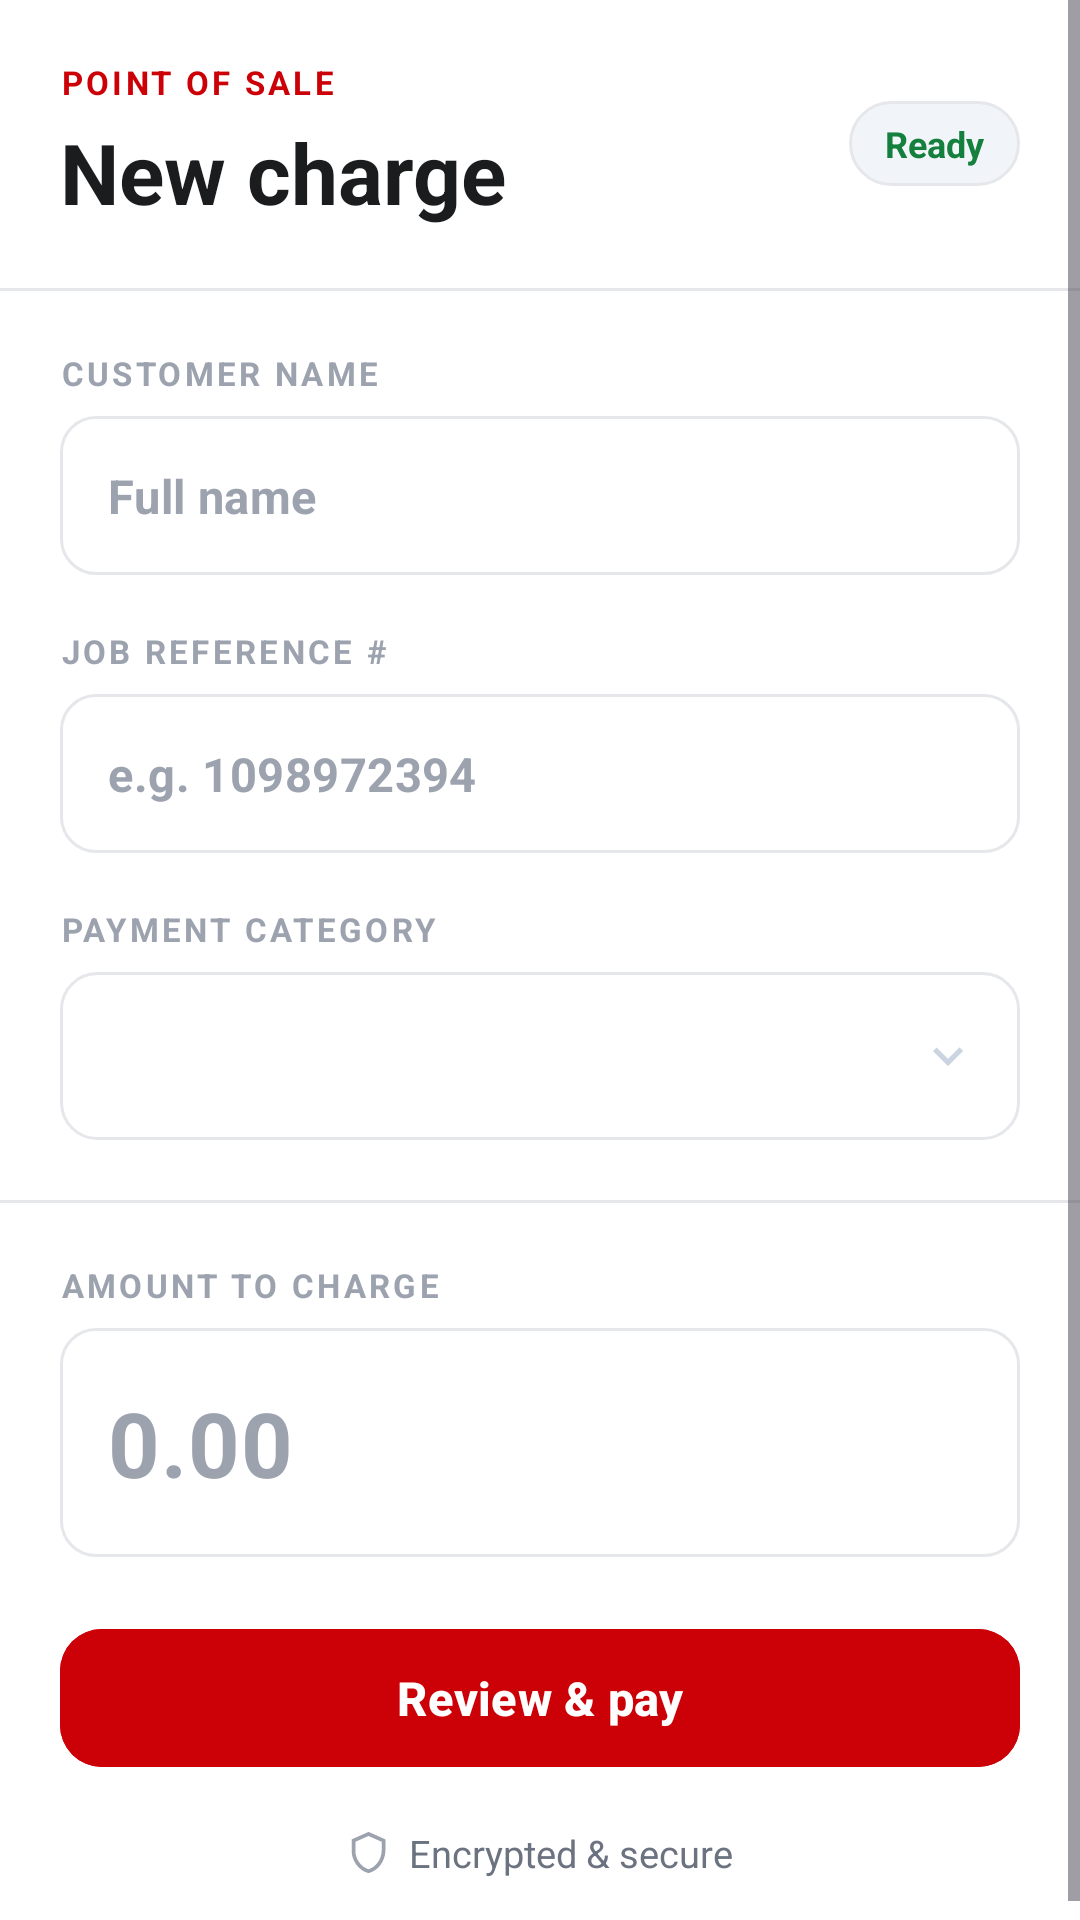

Icons on this 1080x1920 Android screen, each with its box as {"left": x1, "top": y1, "right": x2, "bottom": y2}:
login shield: {"left": 351, "top": 1832, "right": 386, "bottom": 1873}
